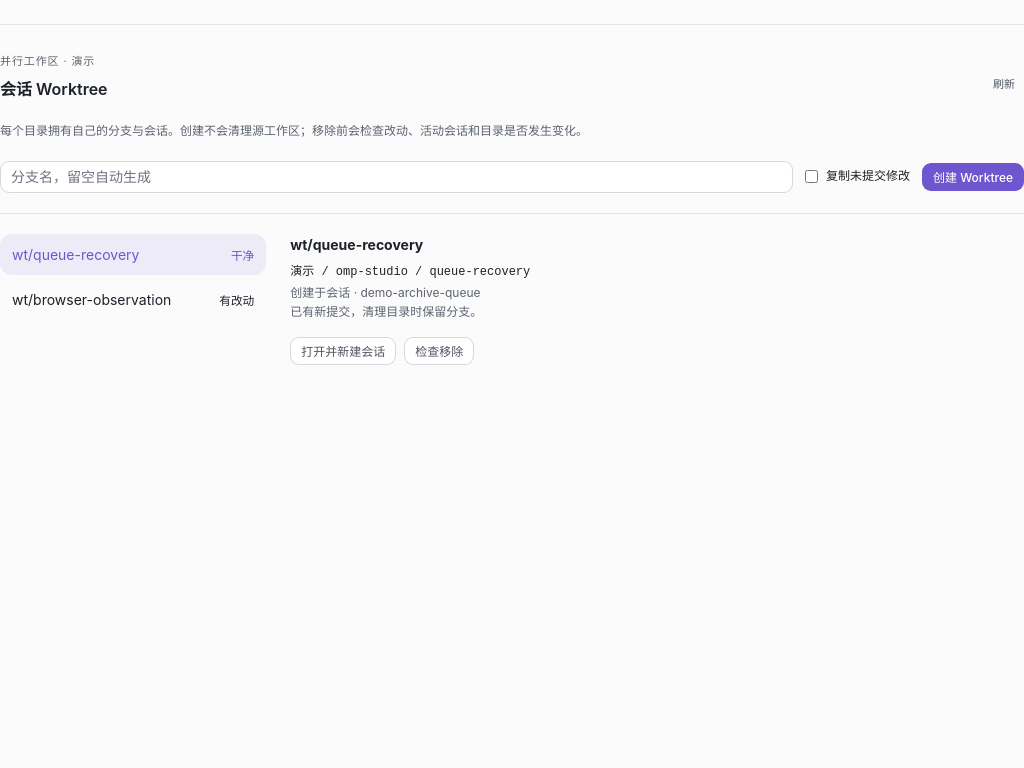
Test: protects dirty worktrees and requires an explicit removal review
Click the button "wt/browser-observation 有改动".
click(133, 299)  # box [0,279,266,320]
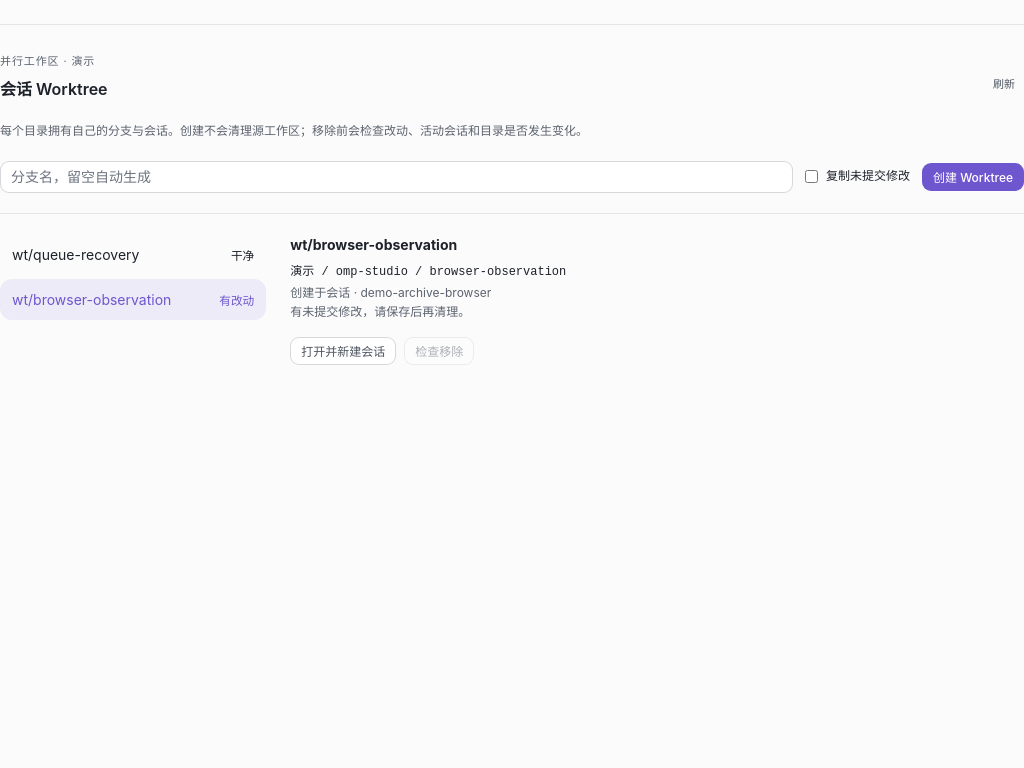
Expected: the button "检查移除" is disabled, [404,337,474,365]
Click the button "wt/queue-recovery 干净".
click(133, 254)  # box [0,234,266,275]
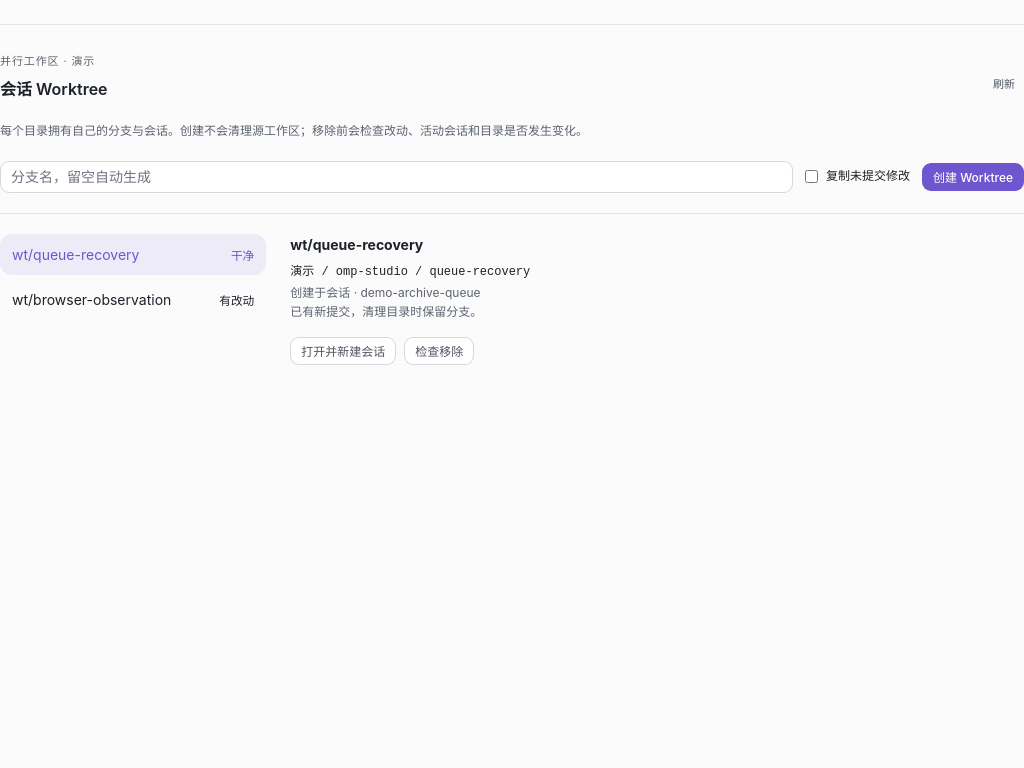
Click the button "检查移除".
click(439, 351)  # box [404,337,474,365]
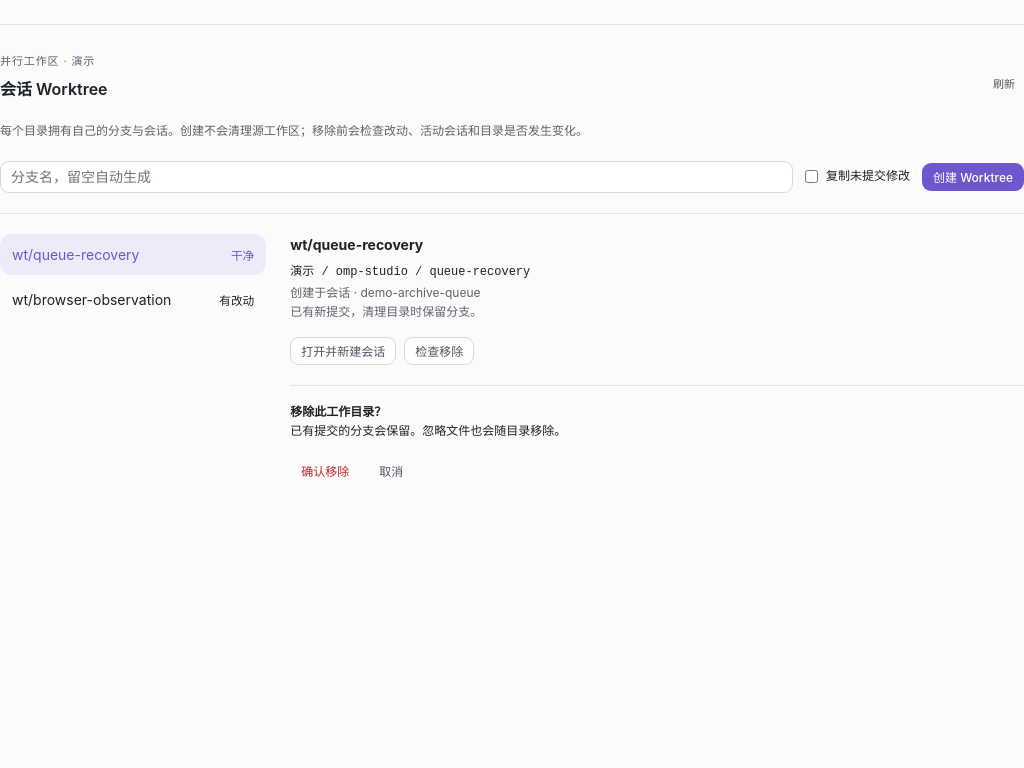
Expected: the text "已有提交的分支会保留。忽略文件也会随目录移除。" is shown, [290,423,566,438]
Click the button "确认移除".
click(325, 470)  # box [290,456,360,484]
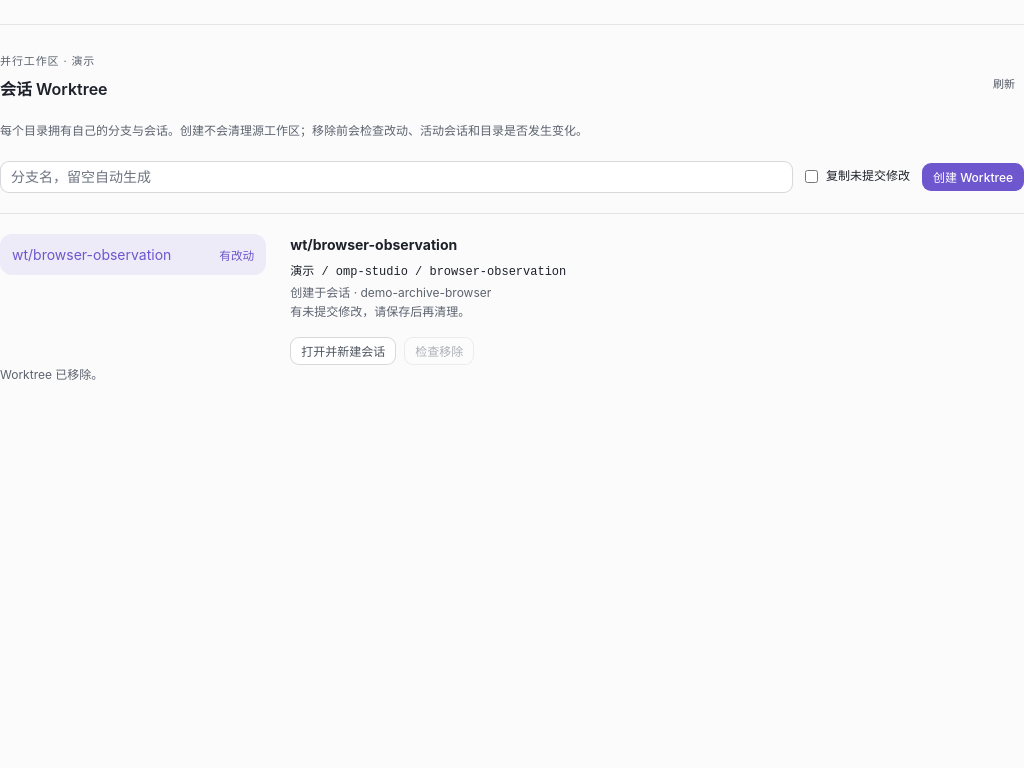
Expected: the button "wt/queue-recovery" is gone
